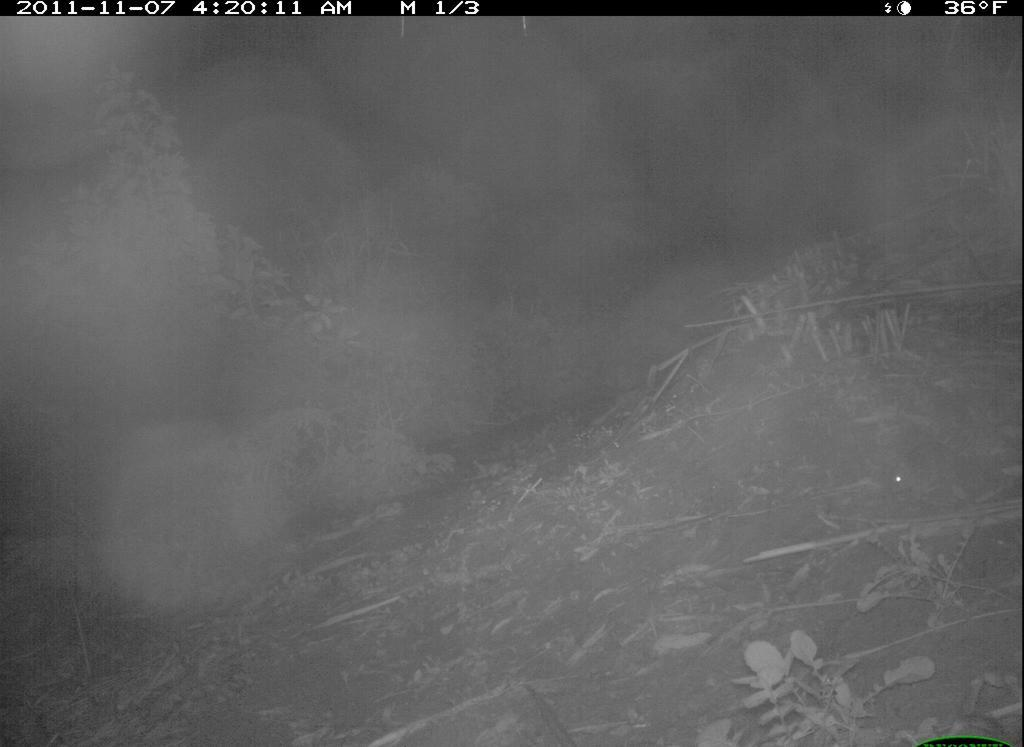rabbit: (883, 436, 964, 505)
